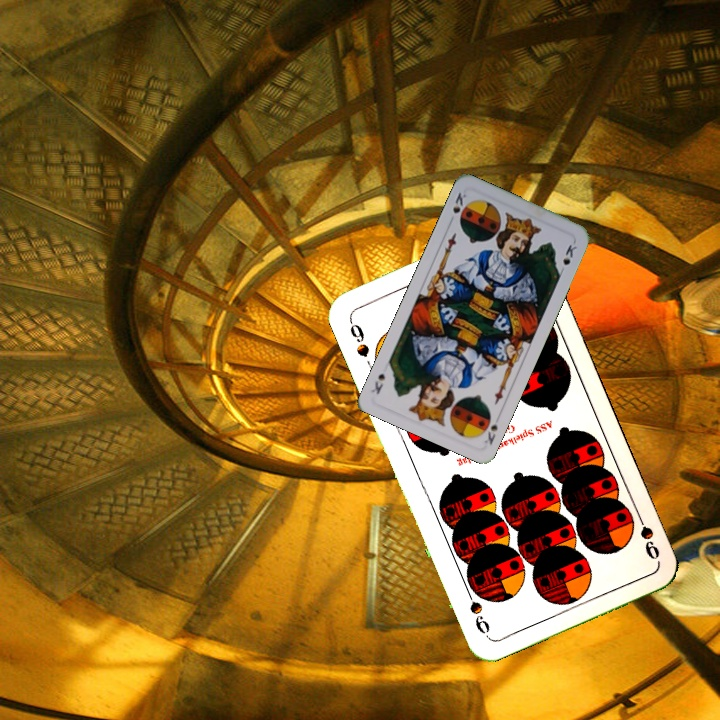S9: (623, 508, 662, 564), (344, 314, 372, 360)
SK: (477, 410, 500, 448), (449, 188, 470, 216)
